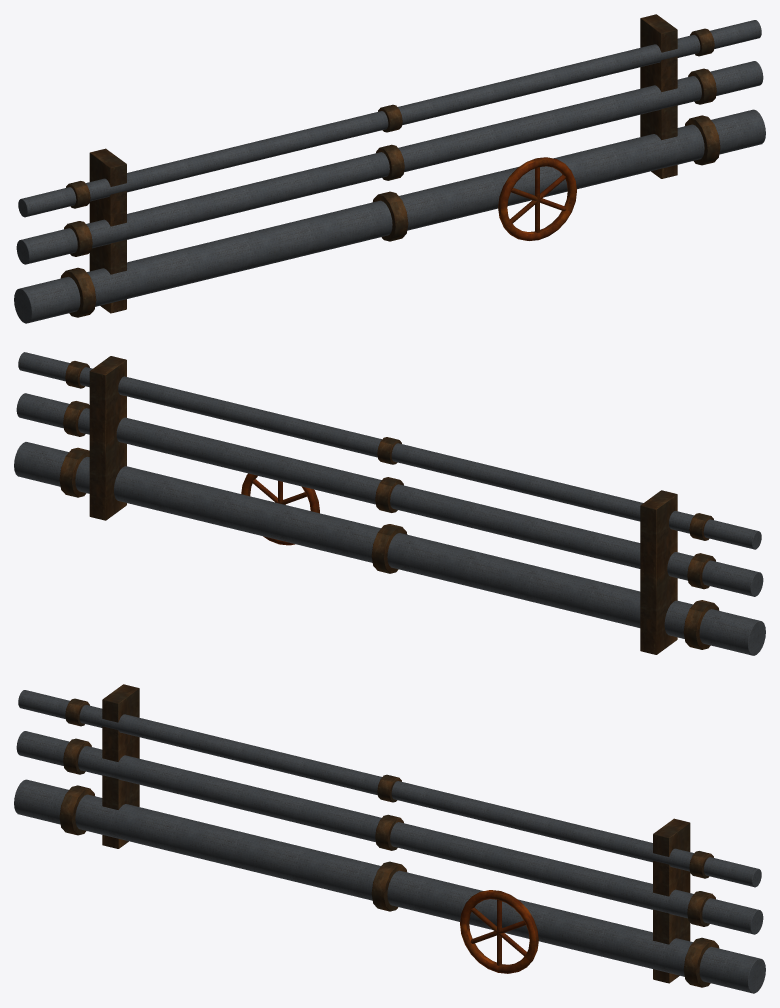
The model's file is service_pipes.glb.
3 views of the same model, one above another, from view 1: azimuth 30°, elevation 25°; view 2: azimuth 150°, elevation 25°; view 3: azimuth 330°, elevation 25° (orthographic).
Visible parts, largest first — view 1: ServicePipeManifold; view 2: ServicePipeManifold; view 3: ServicePipeManifold.
Boxes of the visible parts, x1=… form: ServicePipeManifold: x1=14, y1=14, x2=765, y2=323; ServicePipeManifold: x1=14, y1=352, x2=765, y2=655; ServicePipeManifold: x1=14, y1=684, x2=765, y2=993.
Bounding box in the file's own units: 4 × 0.842 × 0.3609.
3 materials, 3 textured.
